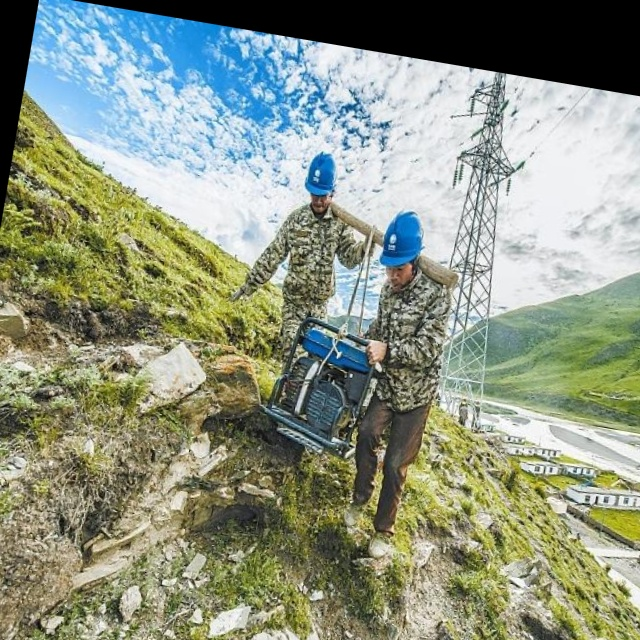Con_Casco: (377, 205, 429, 283), (301, 149, 341, 211)
